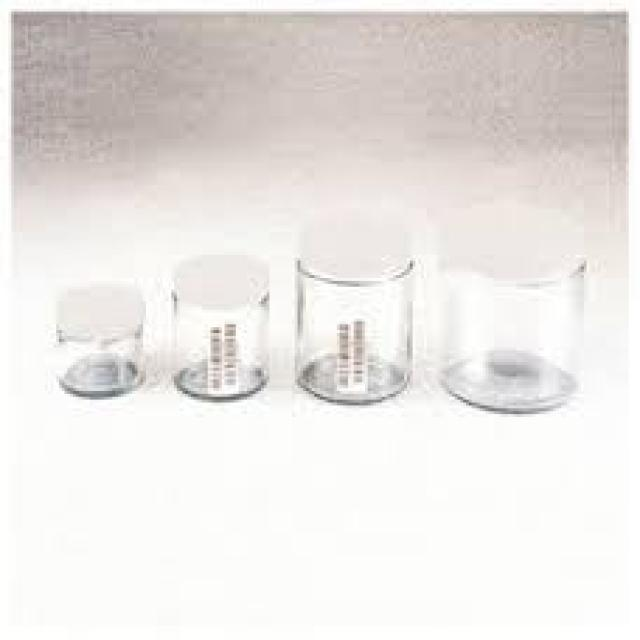glass: (438, 261, 581, 411), (292, 261, 413, 397), (171, 290, 267, 397), (54, 324, 141, 394)
plastic: (432, 206, 581, 284), (295, 223, 410, 281), (174, 252, 264, 301), (56, 281, 140, 333)
